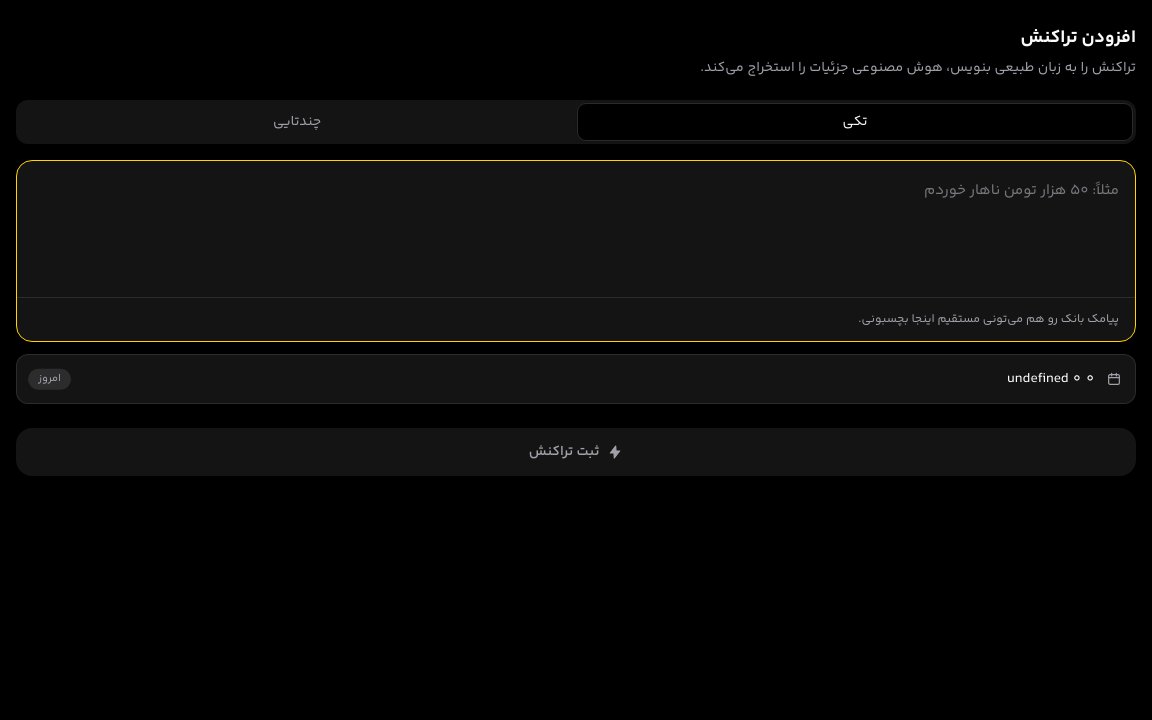
AddTransactionForm - input stage quick submit › falls back to the preview stage with the error when a quick submit is rejected
Type "۵۰ هزار تومن قهوه خوردم" into the text box with placeholder "مثلاً: ۵۰ هزار تومن ناهار خوردم" at (576, 229), box [17,161,1135,297]
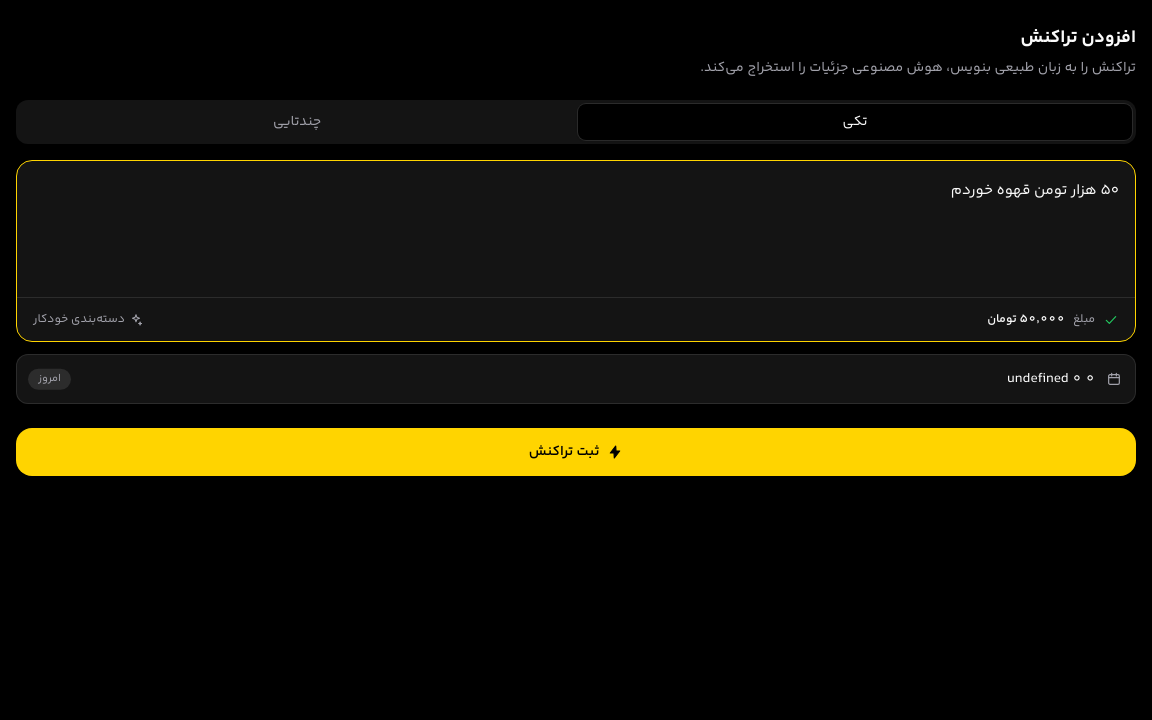
Click the button "ثبت تراکنش" at (576, 452), box [16,428,1136,476]
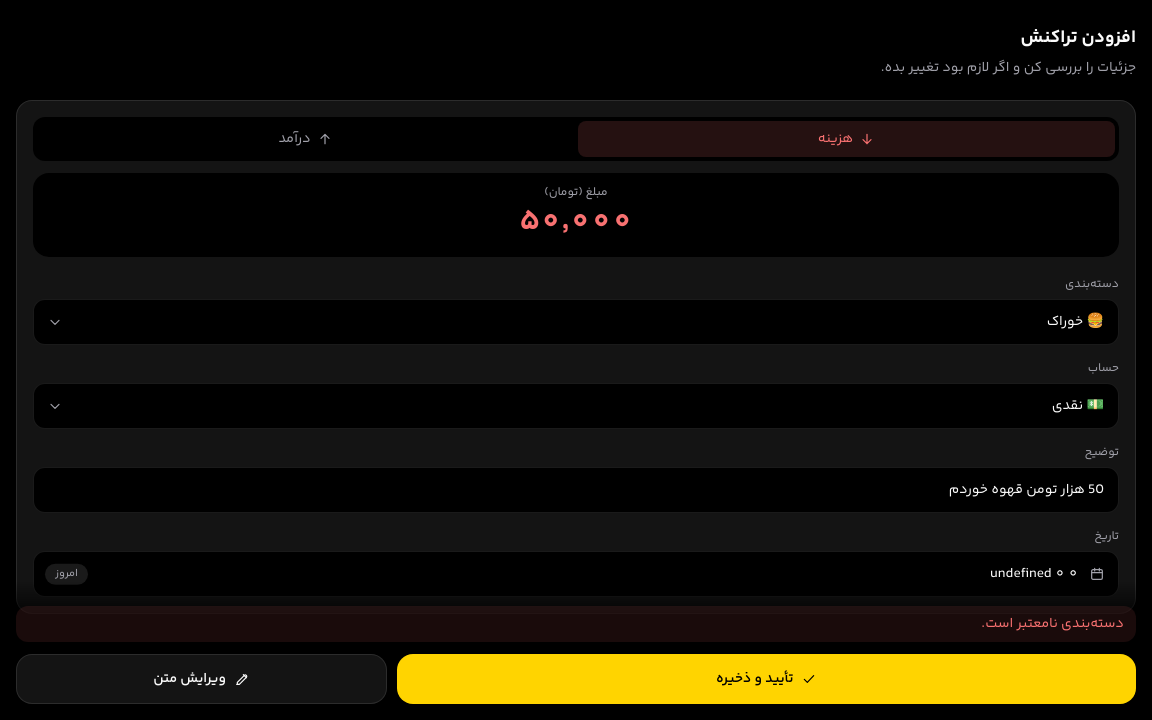
expect the text "دسته‌بندی نامعتبر است." is shown: met, box [16,606,1136,642]
expect the button "تأیید و ذخیره" is shown: met, box [397,654,1136,704]
